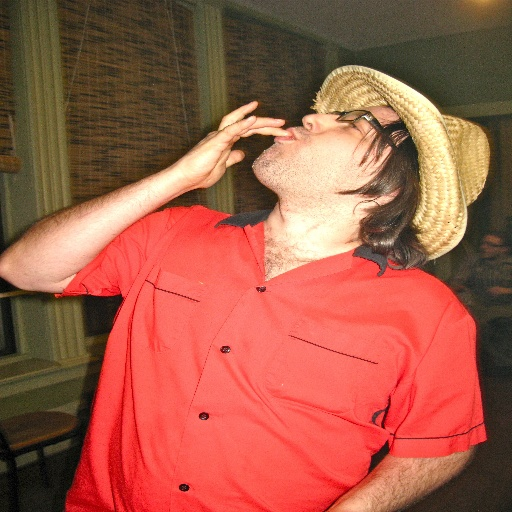hand: (140, 102, 279, 208)
